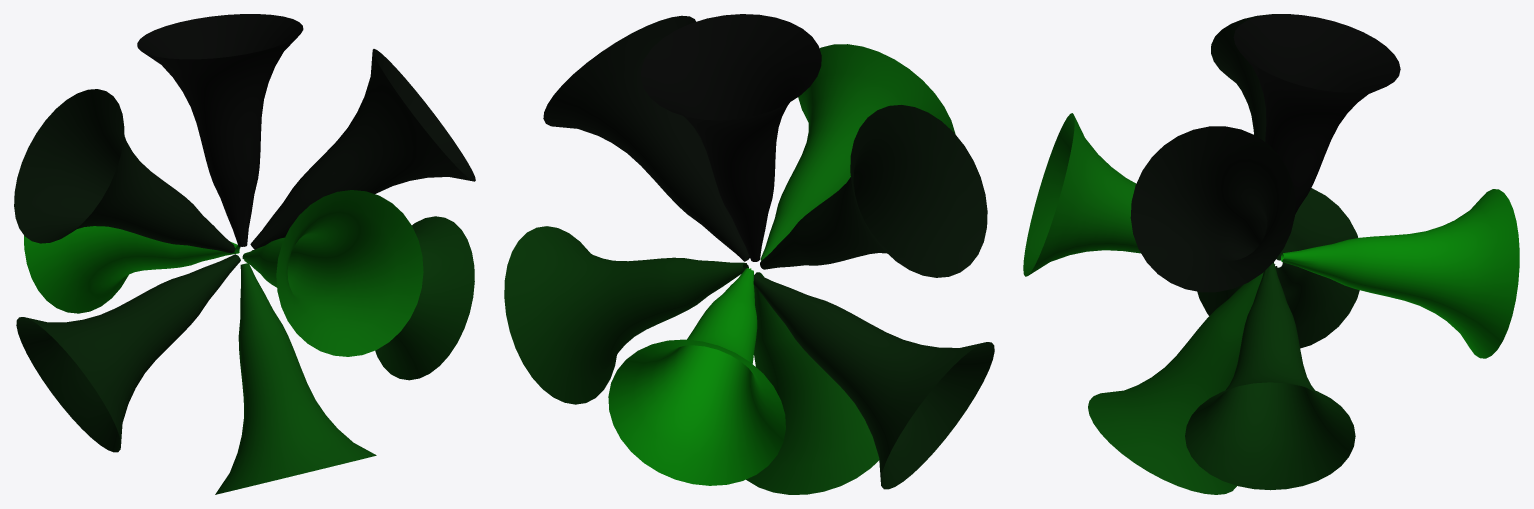
The model's file is Trumpets.fbx.
3 renders of one model, left to right at view 1: azimuth 30°, elevation 25°; view 2: azimuth 150°, elevation 25°; view 3: azimuth 270°, elevation 25°, orthographic. The views are drawn at different scales.
Parts seen in each view (by area): view 1: Trumpet.001; view 2: Trumpet.001; view 3: Trumpet.001.
Part boxes in pixels (x1,y1,x2,y2): Trumpet.001: (14, 14, 475, 494); Trumpet.001: (504, 14, 994, 494); Trumpet.001: (1023, 14, 1519, 494).
Size of the model in its own units: 929 by 931 by 946.
